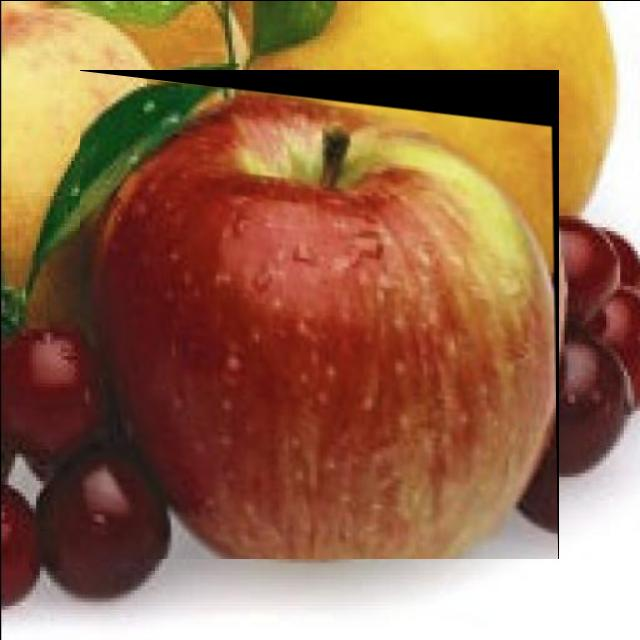Apple: (80, 86, 556, 558)
